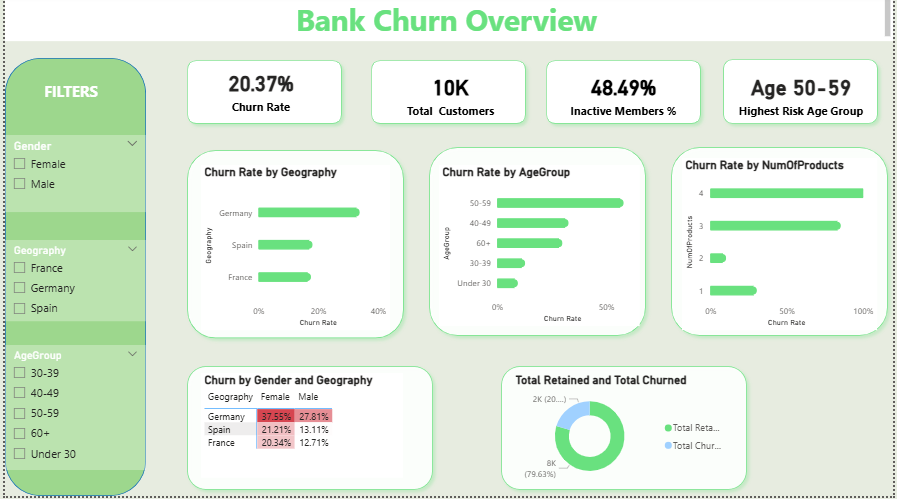

What the dashboard file says about the page in this screenshot:
{"tool":"powerbi","page":{"name":"Page 1","canvas":[1280,720],"ordinal":0},"visuals":[{"type":"shape","box":[0,89.3,203,630.7],"z":0},{"type":"shape","box":[1025.3,82.1,240.5,110.9],"z":1000},{"type":"shape","box":[950.4,208.8,329.8,289.4],"z":2000},{"type":"shape","box":[601.9,208.8,329.8,289.4],"z":3000},{"type":"shape","box":[253.4,524.2,371.5,195.8],"z":4000},{"type":"shape","box":[770.4,83.5,240.5,109.4],"z":5000},{"type":"shape","box":[252.9,213.6,329.8,288.8],"z":6000},{"type":"shape","box":[705.6,524.2,371.5,195.8],"z":7000},{"type":"shape","box":[253.4,83.5,240.5,109.4],"z":8000},{"type":"shape","box":[518.4,83.5,240.5,109.4],"z":9000},{"type":"card","fields":{"Values":["bank_churn_cleaned.Total  Customers"]},"box":[554.4,99.4,174.2,80.6],"z":11000},{"type":"card","fields":{"Values":["bank_churn_cleaned.Inactive Members %"]},"box":[787.7,99.4,205.9,80.6],"z":12000},{"type":"textbox","box":[0,0,1280.2,64.8],"z":13000},{"type":"clusteredBarChart","fields":{"Y":["bank_churn_cleaned.Churn Rate"],"Category":["bank_churn_cleaned.Geography"]},"box":[282.2,243.4,272.2,237.6],"z":14000},{"type":"clusteredBarChart","fields":{"Y":["bank_churn_cleaned.Churn Rate"],"Category":["bank_churn_cleaned.AgeGroup"]},"box":[625,243.4,289.4,231.8],"z":15000},{"type":"clusteredBarChart","fields":{"Y":["bank_churn_cleaned.Churn Rate"],"Category":["bank_churn_cleaned.NumOfProducts"]},"box":[974.9,233.3,280.8,247.7],"z":16000},{"type":"pivotTable","title":"Churn by Gender and Geography","fields":{"Rows":["bank_churn_cleaned.Geography"],"Values":["bank_churn_cleaned.Churn Rate"],"Columns":["bank_churn_cleaned.Gender"]},"box":[282.2,542.9,290.9,151.2],"z":17000},{"type":"slicer","fields":{"Values":["bank_churn_cleaned.Geography"]},"box":[0,351.4,203,116.6],"z":18000},{"type":"slicer","fields":{"Values":["bank_churn_cleaned.AgeGroup"]},"box":[0,502.6,203,180],"z":19000},{"type":"slicer","fields":{"Values":["bank_churn_cleaned.Gender"]},"box":[0,200.2,203,110.9],"z":20000},{"type":"card","fields":{"Values":["bank_churn_cleaned.Highest Risk Age Group"]},"box":[1046.9,99.4,198.7,80.6],"z":21000},{"type":"textbox","box":[0,118.1,190.1,79.2],"z":22000},{"type":"donutChart","fields":{"Y":["bank_churn_cleaned.Total Retained","bank_churn_cleaned.Total Churned"]},"box":[730.1,542.9,316.8,162.7],"z":23000},{"type":"card","fields":{"Values":["bank_churn_cleaned.Churn Rate"]},"box":[282.2,89.3,172.8,90.7],"z":23003}]}

Visuals, with their boxes in screenshot pixels (x1, y1, x2, y2), scaled from the page's 1280x720 canvas onto the 897x499 screenshot:
shape: 0:62:142:498
shape: 719:57:887:134
shape: 666:145:896:345
shape: 422:145:653:345
shape: 178:363:438:498
shape: 540:58:708:134
shape: 177:148:408:348
shape: 494:363:755:498
shape: 178:58:346:134
shape: 363:58:532:134
card - bank_churn_cleaned.Total  Customers: 389:69:511:125
card - bank_churn_cleaned.Inactive Members %: 552:69:696:125
textbox: 0:0:896:45
clusteredBarChart - bank_churn_cleaned.Churn Rate x bank_churn_cleaned.Geography: 198:169:389:333
clusteredBarChart - bank_churn_cleaned.Churn Rate x bank_churn_cleaned.AgeGroup: 438:169:641:329
clusteredBarChart - bank_churn_cleaned.Churn Rate x bank_churn_cleaned.NumOfProducts: 683:162:880:333
"Churn by Gender and Geography" pivotTable: 198:376:402:481
slicer - bank_churn_cleaned.Geography: 0:244:142:324
slicer - bank_churn_cleaned.AgeGroup: 0:348:142:473
slicer - bank_churn_cleaned.Gender: 0:139:142:216
card - bank_churn_cleaned.Highest Risk Age Group: 734:69:873:125
textbox: 0:82:133:137
donutChart - bank_churn_cleaned.Total Retained x bank_churn_cleaned.Total Churned: 512:376:734:489
card - bank_churn_cleaned.Churn Rate: 198:62:319:125
